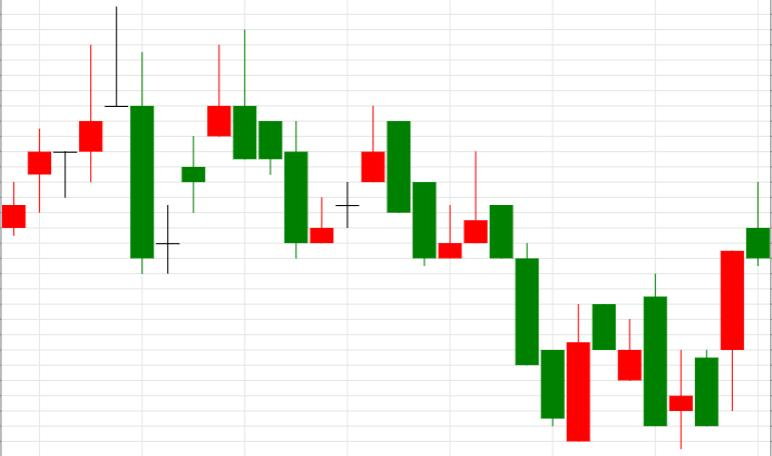bullish_engulfing_rise: (387, 121, 590, 441)
